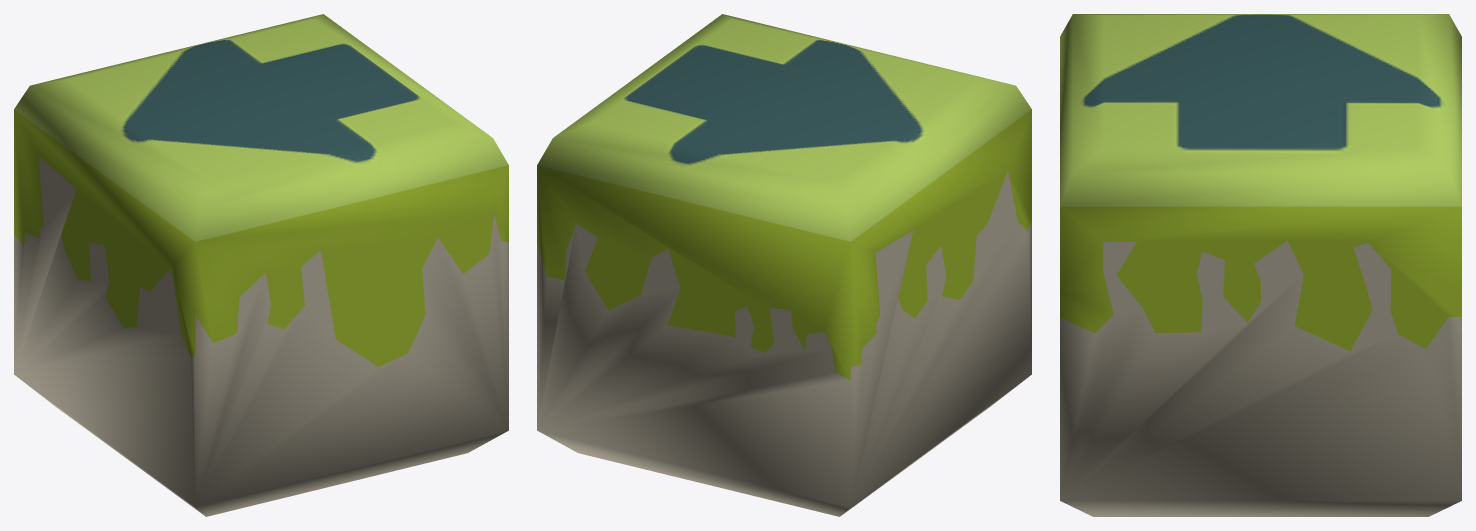
File: direction_cube.fbx
3 views of the same model, side by side, from view 1: azimuth 30°, elevation 25°; view 2: azimuth 150°, elevation 25°; view 3: azimuth 270°, elevation 25° (orthographic). The views are drawn at different scales.
Visible parts, largest first — view 1: Cube.001; view 2: Cube.001; view 3: Cube.001.
Boxes of the visible parts, box(x1,y1,x2,y2) form: Cube.001: box(14, 14, 508, 516); Cube.001: box(537, 14, 1031, 516); Cube.001: box(1060, 14, 1461, 516).
Bounding box in the file's own units: 100 × 100 × 100.
1 material, 1 textured.
